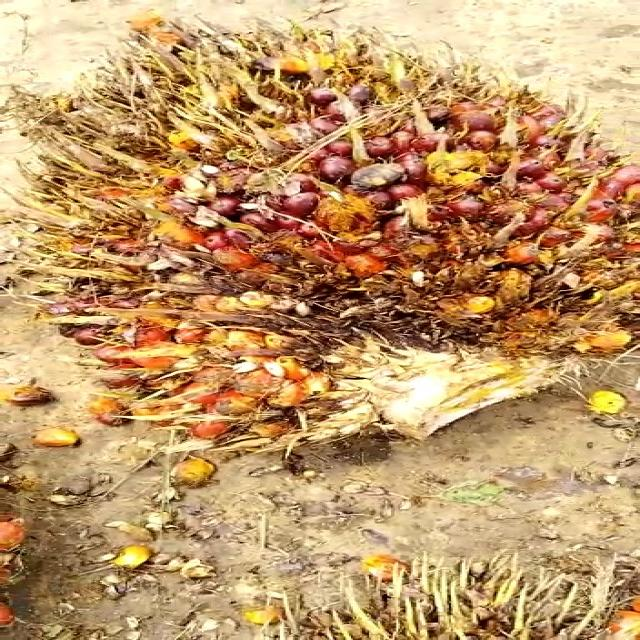palm oil: (0, 25, 640, 463)
